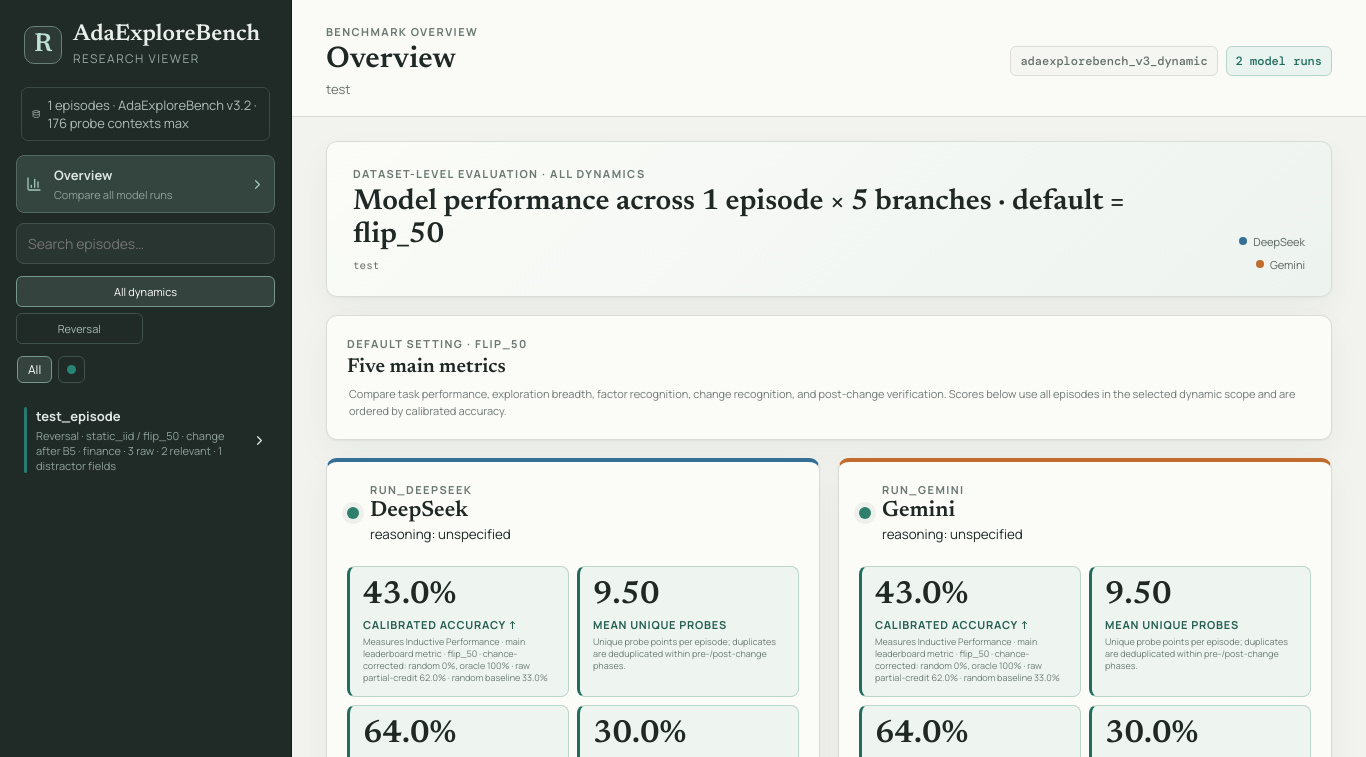
opens the episode explorer and current schema
Click the button "test_episode". click: (146, 440)
box: [16,397,275,483]
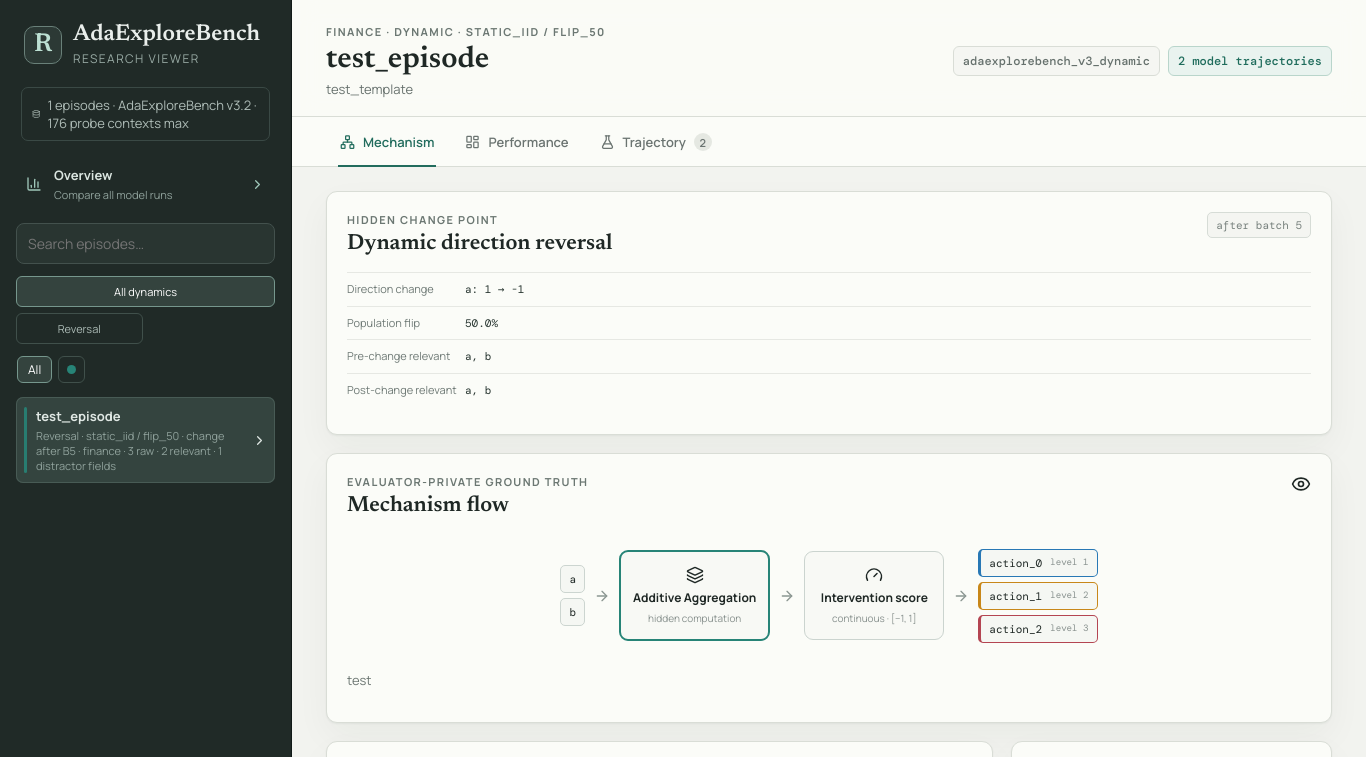
Expected: the text "adaexplorebench_v3_dynamic" is shown, [953,46,1160,76]
Result: the button "Mechanism" is shown at [326,117,448,166]
